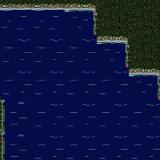Interaction: (0, 0, 110, 20), (123, 53, 160, 85), (110, 29, 143, 53), (87, 20, 110, 53)
Slow: (0, 11, 93, 160), (93, 45, 125, 160), (124, 77, 159, 160)
